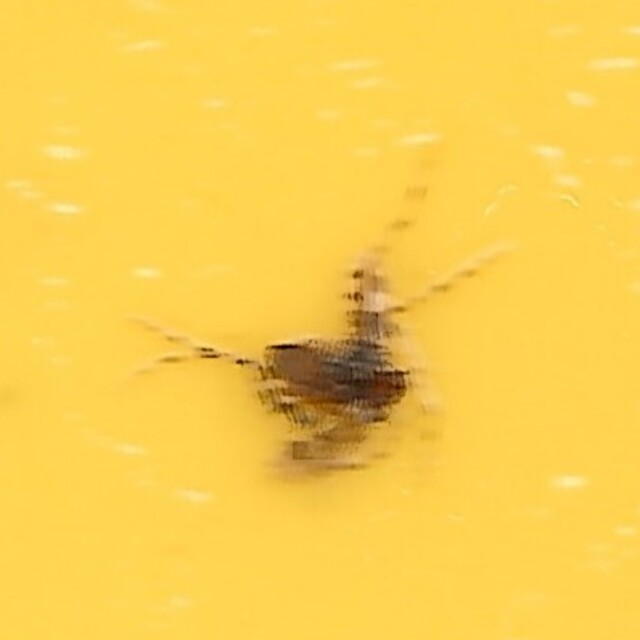Nematocera: (161, 154, 479, 486)
